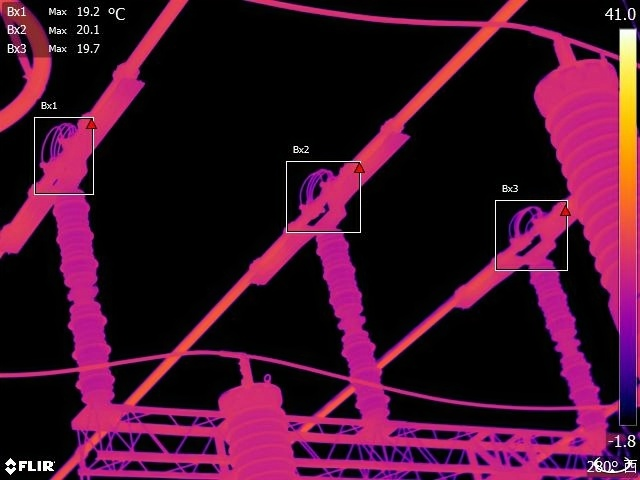post insulator: (54, 188, 130, 409), (316, 222, 393, 421), (527, 255, 610, 437)
potential transformer: (528, 32, 640, 347), (208, 350, 295, 480)
